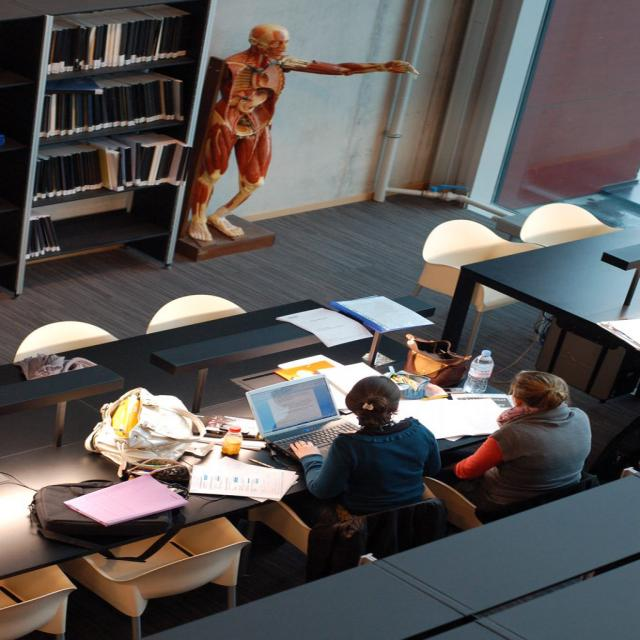chair: (60, 520, 250, 640), (248, 497, 448, 584), (0, 585, 75, 640), (424, 477, 482, 534)
desk: (21, 461, 313, 618)
laptop: (243, 375, 361, 459)
person: (188, 23, 420, 241), (284, 376, 442, 538), (443, 370, 593, 518)
